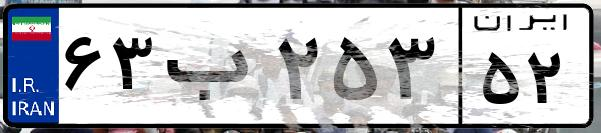2: (270, 28, 330, 110), (525, 38, 570, 115)
3: (385, 28, 445, 110), (110, 28, 158, 98)
5: (330, 28, 385, 110), (475, 38, 525, 113)
6: (57, 26, 110, 100)
ب: (158, 20, 270, 120)
